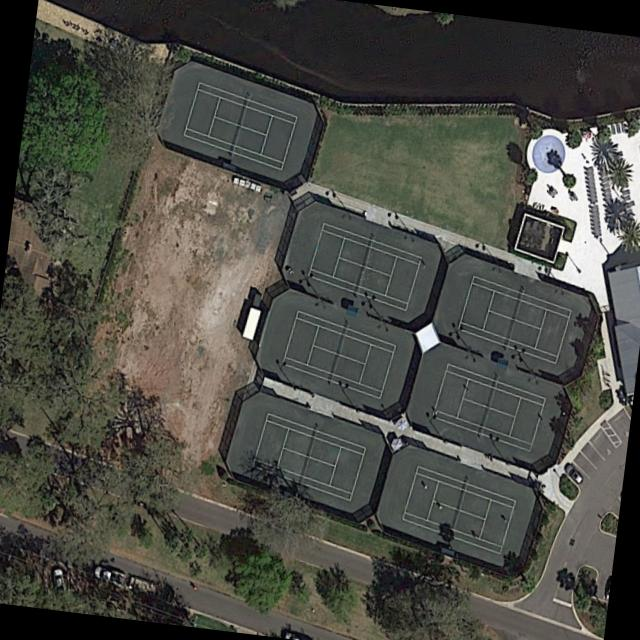small-vehicle: (91, 563, 123, 586), (563, 463, 585, 485), (51, 569, 65, 599)
